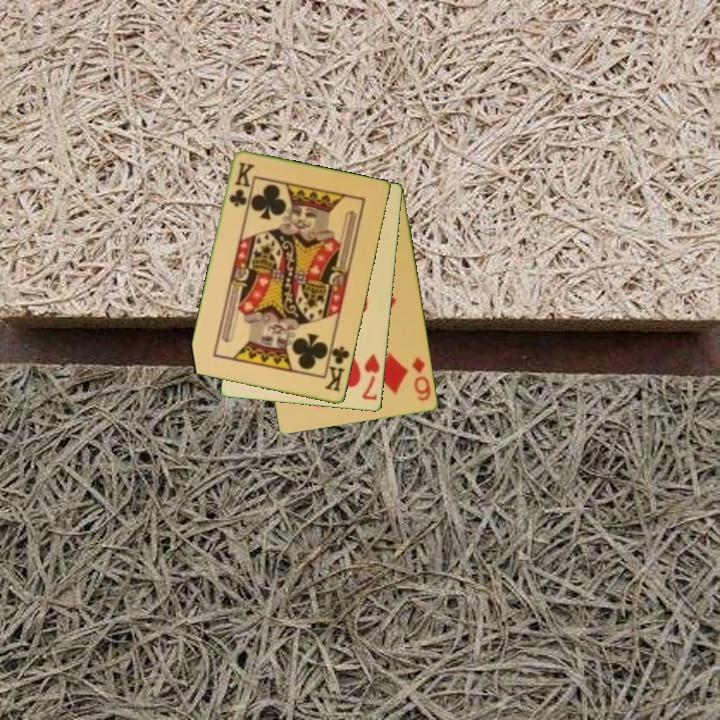6d: (409, 353, 434, 404)
7h: (359, 350, 383, 404)
Kc: (321, 339, 352, 395), (226, 159, 257, 210)
